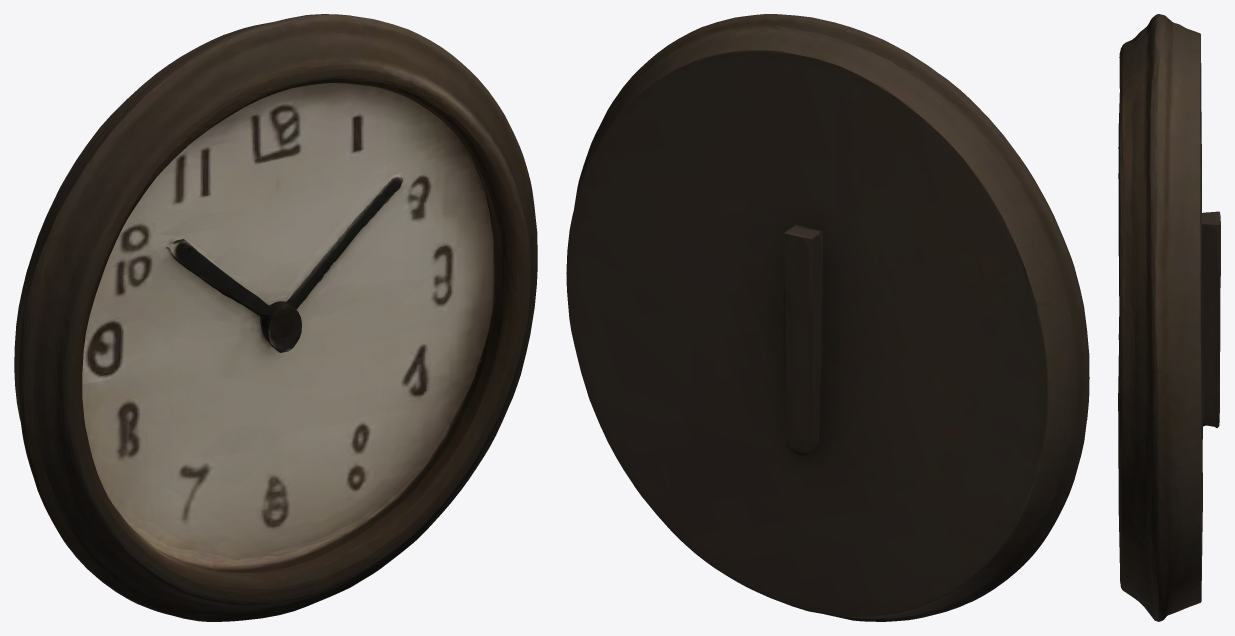
The model's file is clock on wall.glb.
3 renders of one model, left to right at view 1: azimuth 30°, elevation 25°; view 2: azimuth 150°, elevation 25°; view 3: azimuth 270°, elevation 25°, orthographic. The views are drawn at different scales.
Parts seen in each view (by area): view 1: world; view 2: world; view 3: world.
Boxes of the visible parts, x1,y1,x2,y2 form: world: (14,14,537,621); world: (566,14,1089,621); world: (1118,14,1220,621).
Size of the model in its own units: 0.9164 by 1 by 0.1676.
Materials: 1 (1 with a texture image).
